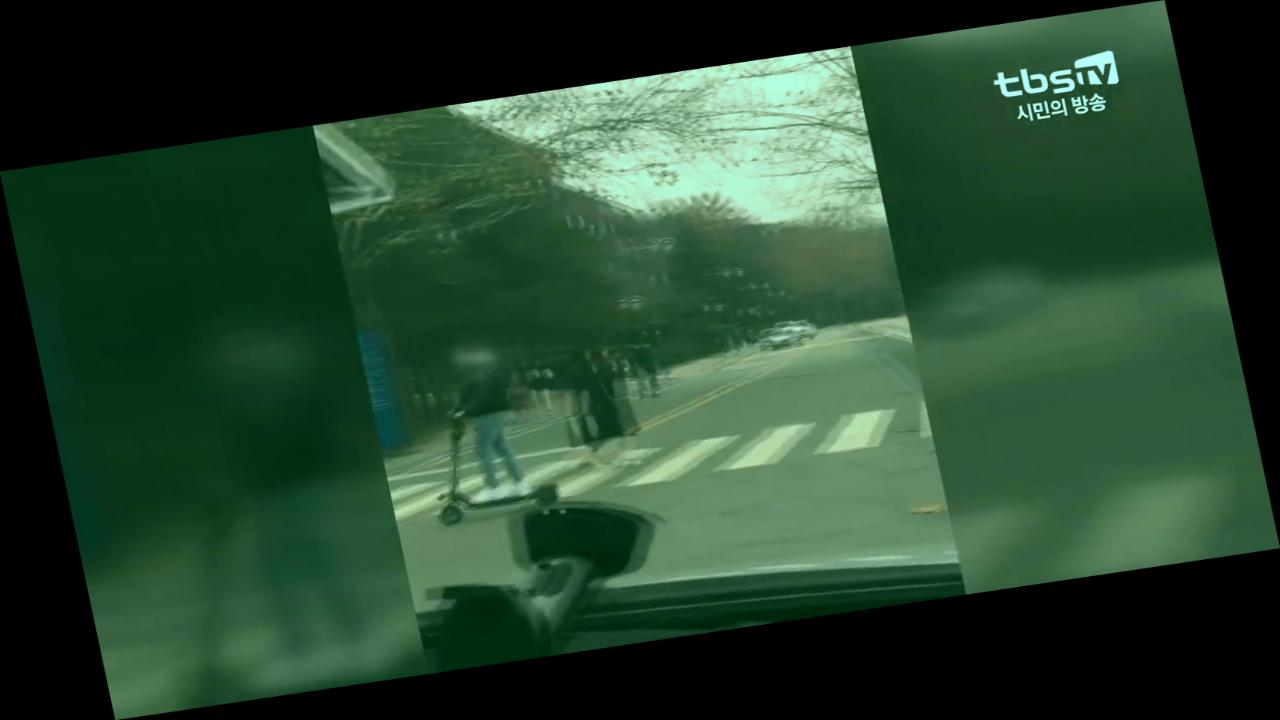nonhelmet: (402, 328, 573, 530)
